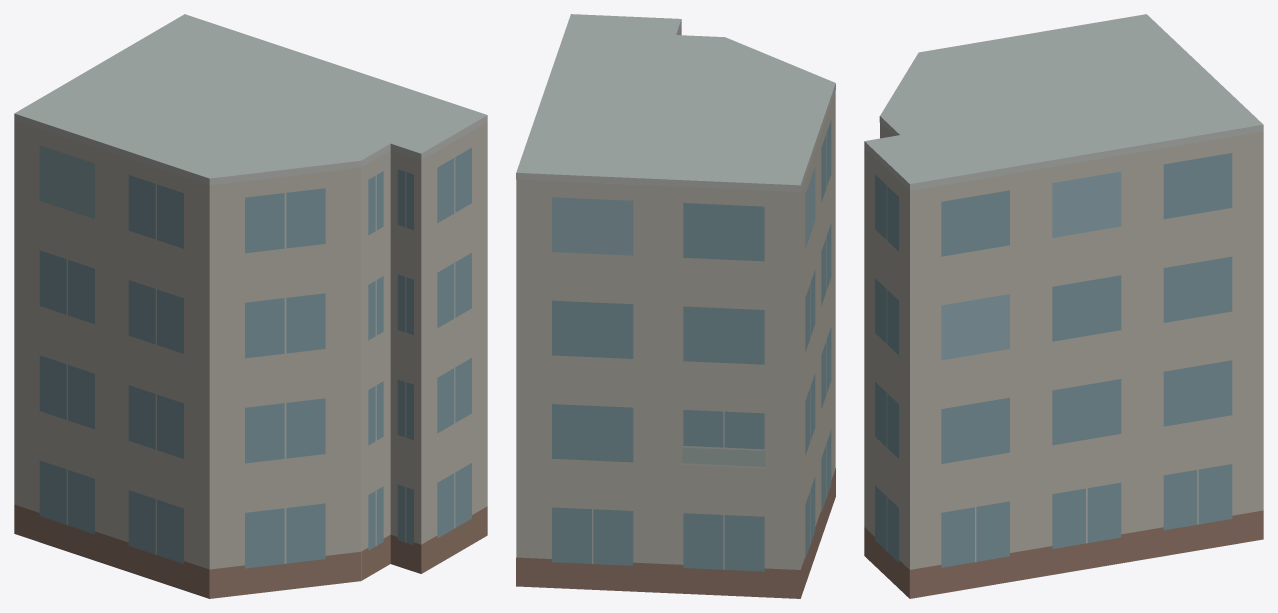
File: survey-upis-32680460.glb
The picture shows the model from 3 angles, left to right: view 1: azimuth 30°, elevation 25°; view 2: azimuth 150°, elevation 25°; view 3: azimuth 270°, elevation 25°; orthographic projection.
Visible parts, largest first — view 1: survey-upis-32680460.tmp; view 2: survey-upis-32680460.tmp; view 3: survey-upis-32680460.tmp.
Part boxes in pixels (left/top/right/bottom): survey-upis-32680460.tmp: left=14, top=14, right=487, bottom=598; survey-upis-32680460.tmp: left=516, top=14, right=835, bottom=598; survey-upis-32680460.tmp: left=864, top=14, right=1263, bottom=598.
Size of the model in its own units: 13.03 by 14.8 by 12.92.
